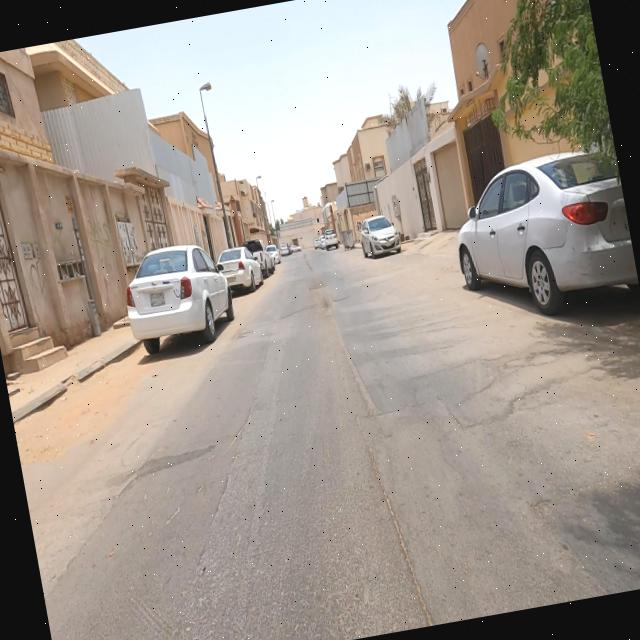Graffiti: (89, 216, 114, 244), (29, 261, 50, 294)
